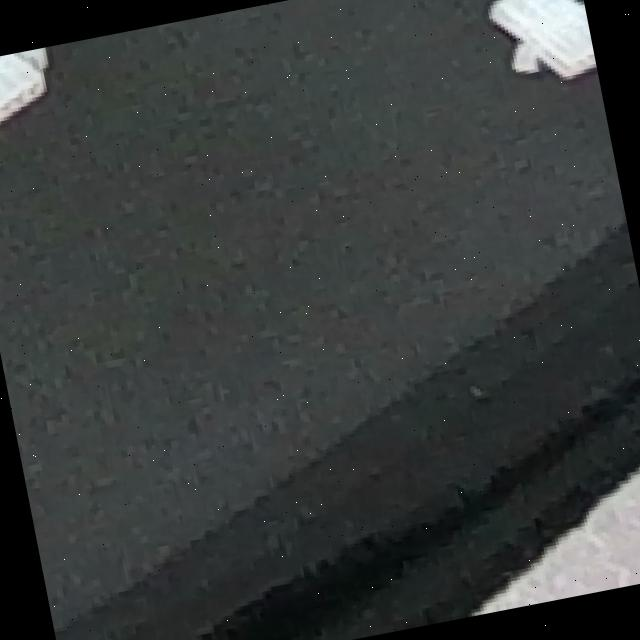pick: (440, 0, 600, 113), (0, 44, 78, 136)
